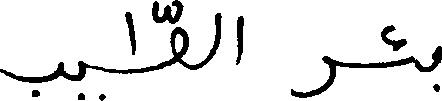X: (0, 57, 61, 100), (293, 51, 333, 100), (172, 0, 188, 73), (207, 8, 219, 67), (433, 41, 441, 96), (80, 56, 84, 100), (237, 11, 240, 69), (407, 51, 415, 71)
